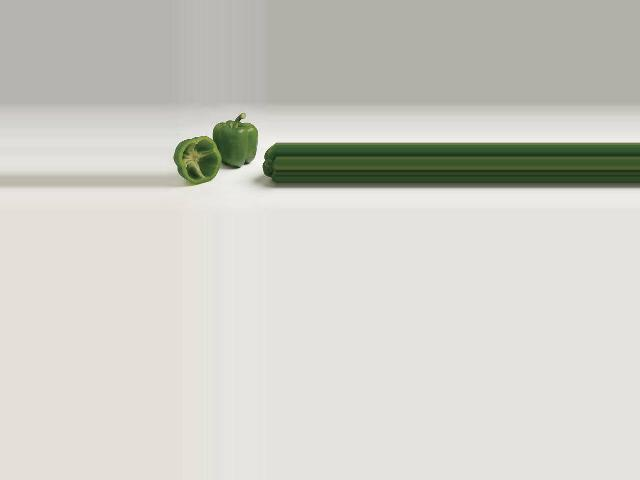bell_pepper: (171, 131, 224, 187)
